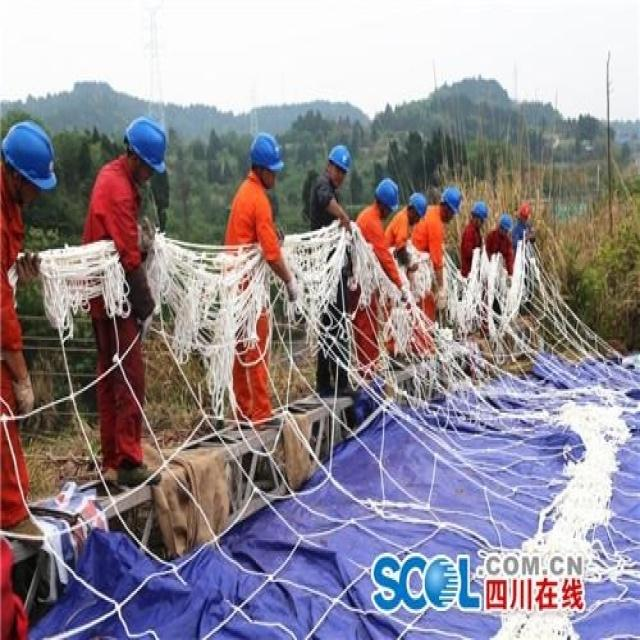helmet: (2, 158, 53, 274), (126, 153, 167, 248), (250, 172, 283, 252), (327, 188, 351, 251), (374, 234, 398, 290), (441, 243, 461, 296), (405, 255, 428, 301), (470, 269, 487, 308), (518, 268, 531, 301), (497, 286, 510, 318)
